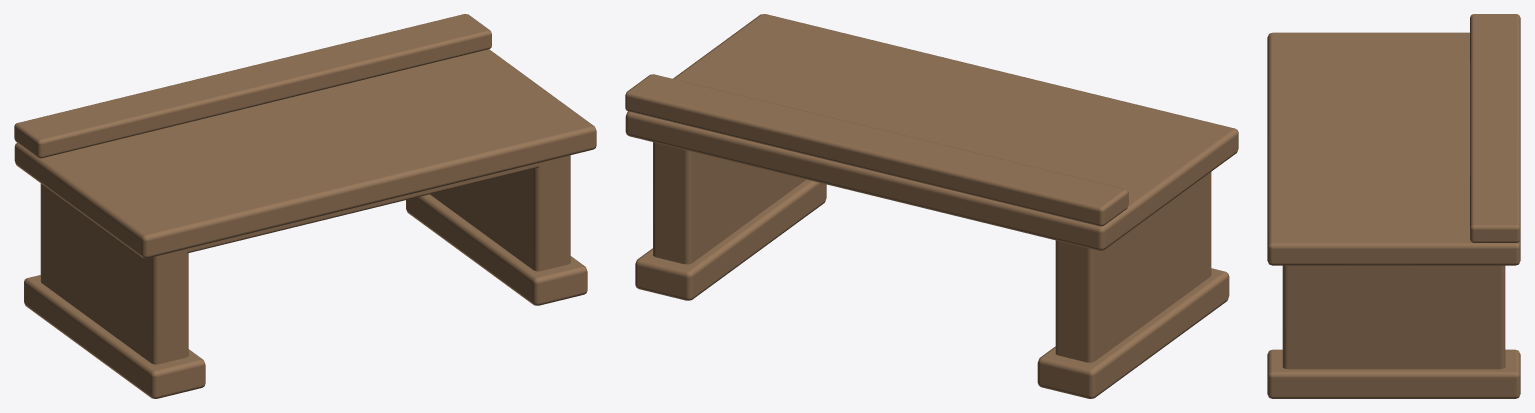
Rendered from low-study-desk-68f899d4.glb.
3 views of the same model, side by side, from view 1: azimuth 30°, elevation 25°; view 2: azimuth 150°, elevation 25°; view 3: azimuth 270°, elevation 25° (orthographic). The views are drawn at different scales.
Parts seen in each view (by area): view 1: low-study-desk; view 2: low-study-desk; view 3: low-study-desk.
Part boxes in pixels (left/top/right/bottom): low-study-desk: left=14, top=14, right=596, bottom=398; low-study-desk: left=625, top=14, right=1238, bottom=398; low-study-desk: left=1267, top=14, right=1520, bottom=398.
Size of the model in its own units: 1 by 0.3899 by 0.5001.
